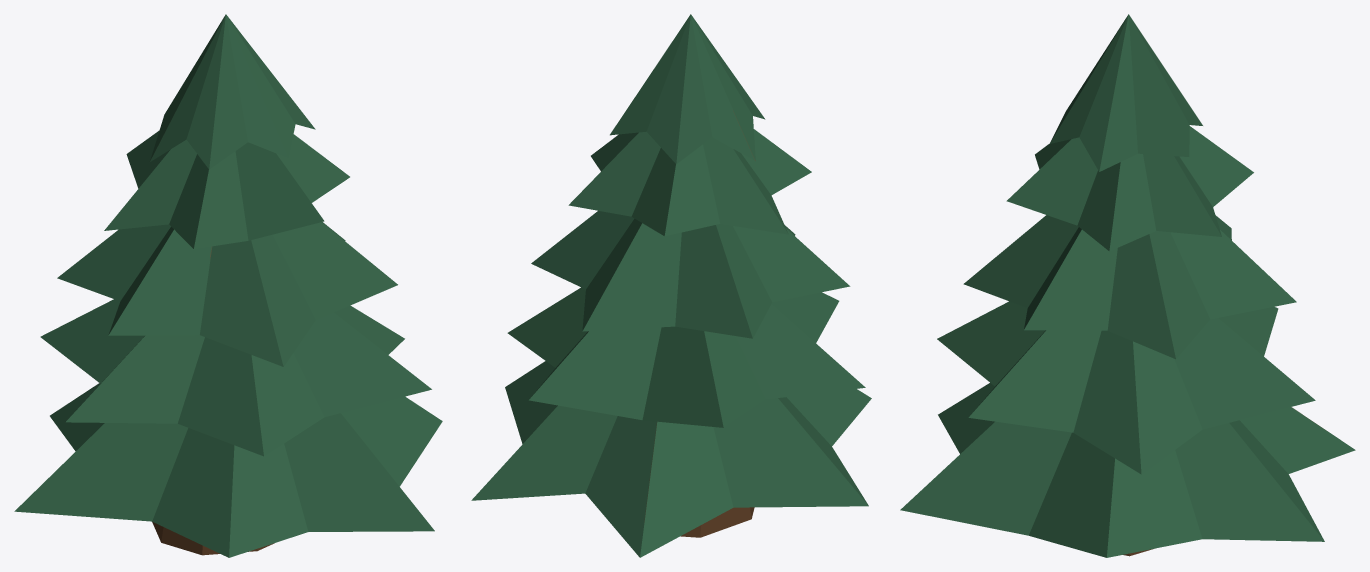
The model's file is SpruceTree.fbx.
3 views of the same model, side by side, from view 1: azimuth 30°, elevation 25°; view 2: azimuth 150°, elevation 25°; view 3: azimuth 270°, elevation 25° (orthographic). The views are drawn at different scales.
Parts seen in each view (by area): view 1: Sprucetree; view 2: Sprucetree; view 3: Sprucetree.
Boxes of the visible parts, <box> form: Sprucetree: <box>14,14,442,557</box>; Sprucetree: <box>471,14,871,557</box>; Sprucetree: <box>900,14,1355,557</box>.
Bounding box in the file's own units: 403 × 488 × 397.
